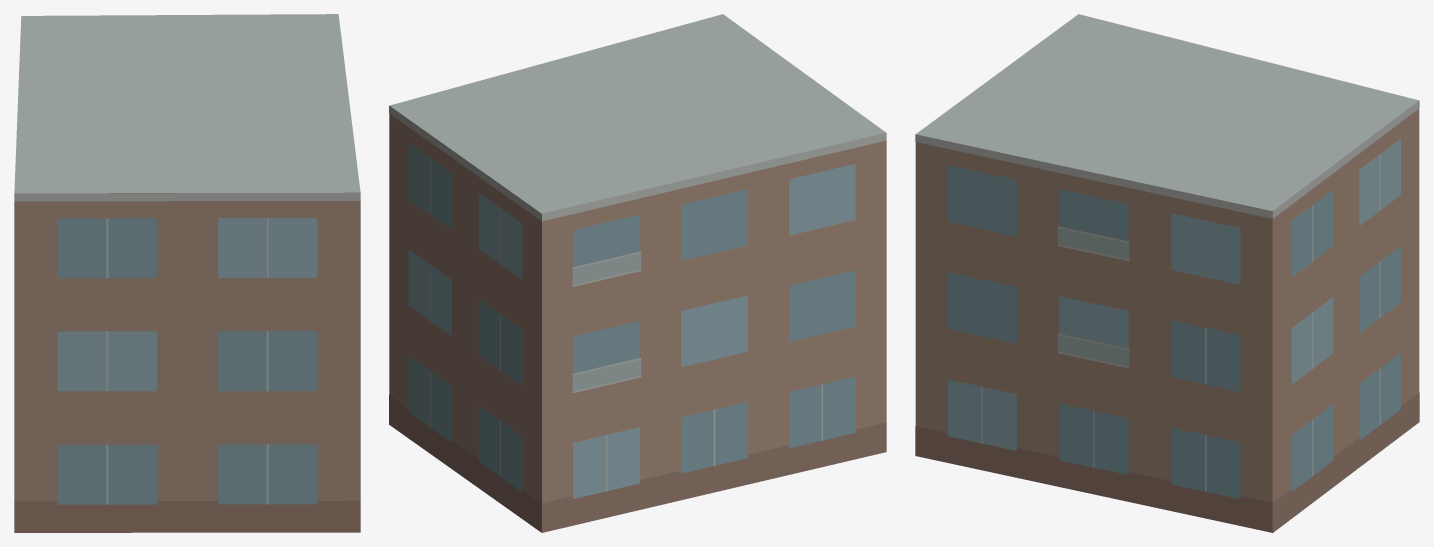
File: survey-upis-32636811.glb
3 renders of one model, left to right at view 1: azimuth 30°, elevation 25°; view 2: azimuth 150°, elevation 25°; view 3: azimuth 270°, elevation 25°, orthographic. The views are drawn at different scales.
Parts seen in each view (by area): view 1: survey-upis-32636811.tmp; view 2: survey-upis-32636811.tmp; view 3: survey-upis-32636811.tmp.
Part boxes in pixels (x1=…): survey-upis-32636811.tmp: x1=14, y1=14, x2=360, y2=532; survey-upis-32636811.tmp: x1=389, y1=14, x2=886, y2=532; survey-upis-32636811.tmp: x1=915, y1=14, x2=1419, y2=532.
Size of the model in its own units: 13.42 by 10.2 by 14.49.
